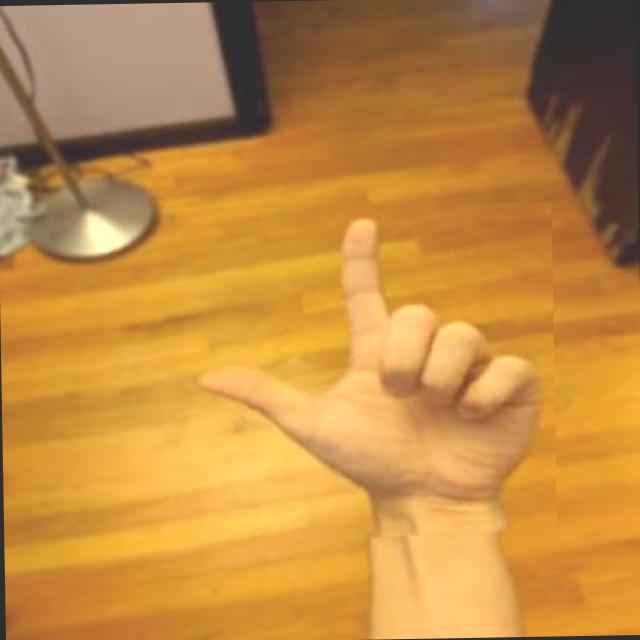L: (160, 202, 557, 548)
